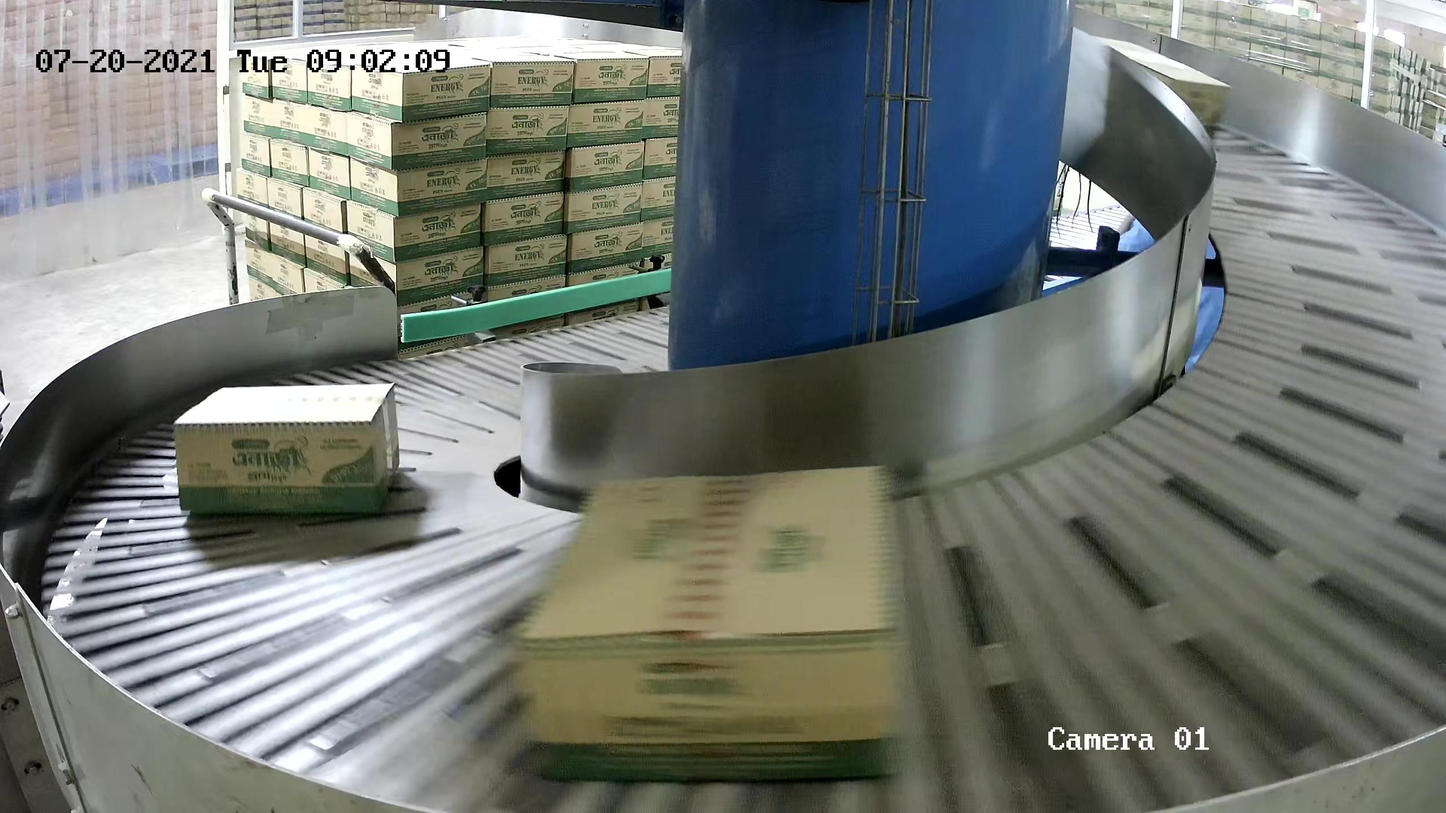Box: (517, 462, 911, 785), (172, 382, 402, 514)
